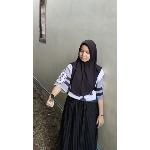Pisau: (49, 92, 57, 108)
